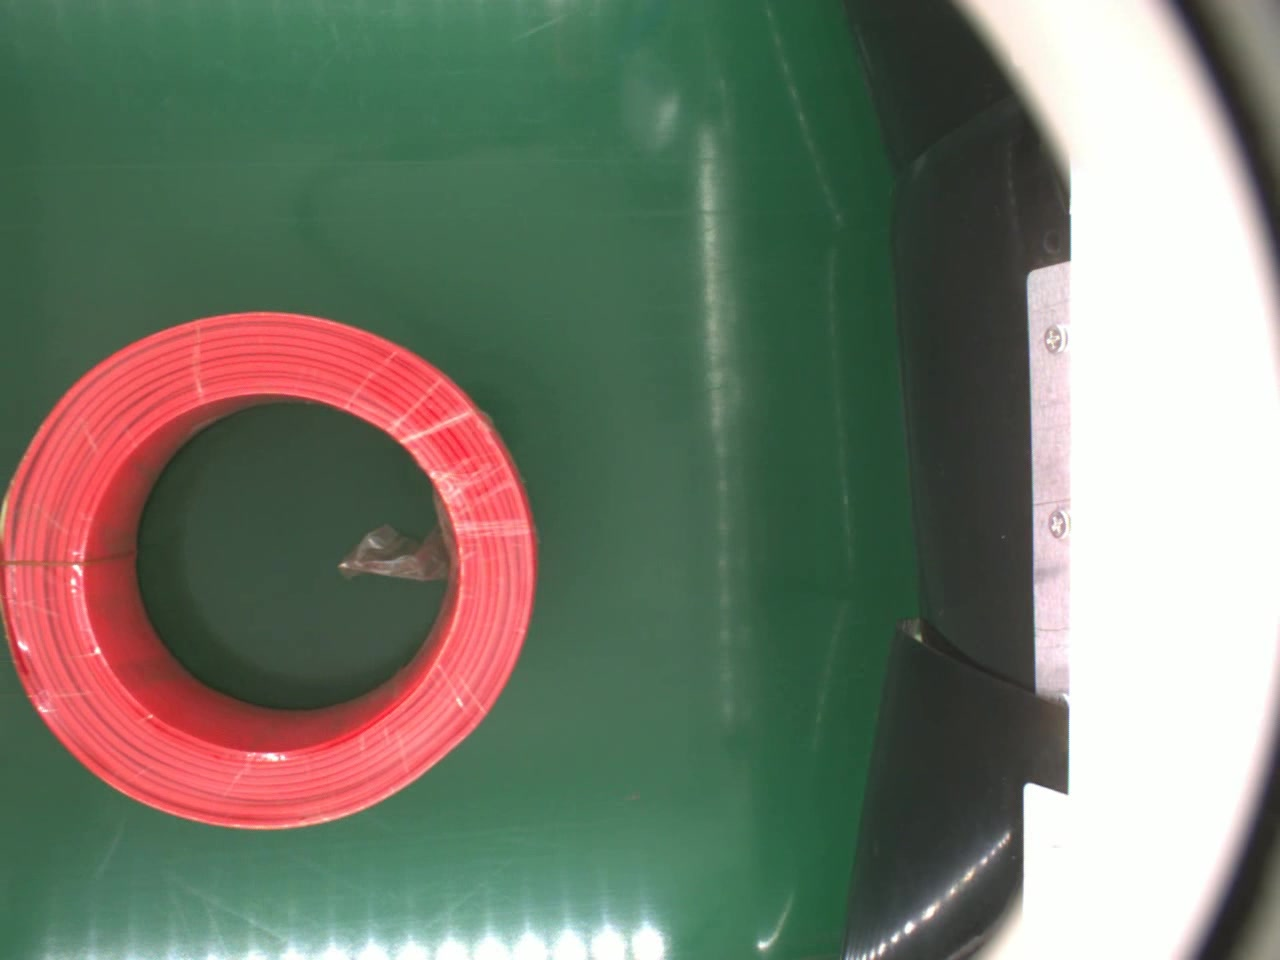red: (0, 298, 537, 836)
